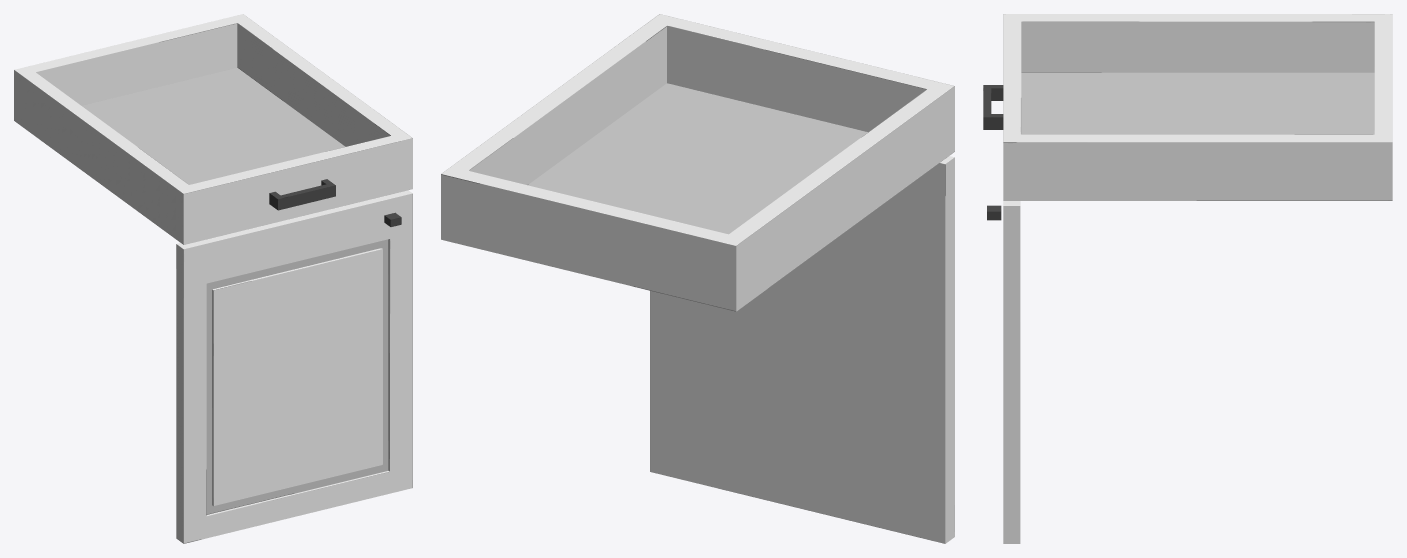
The model's file is PortinhaEGaveta.fbx.
The picture shows the model from 3 angles, left to right: view 1: azimuth 30°, elevation 25°; view 2: azimuth 150°, elevation 25°; view 3: azimuth 270°, elevation 25°; orthographic projection. The views are drawn at different scales.
Visible parts, largest first — view 1: PortinhaArmario, GavetaArmario; view 2: GavetaArmario, PortinhaArmario; view 3: GavetaArmario, PortinhaArmario.
Boxes of the visible parts, left/top/right/bottom form: PortinhaArmario: left=176, top=190, right=412, bottom=543; GavetaArmario: left=14, top=14, right=412, bottom=244; GavetaArmario: left=441, top=14, right=954, bottom=311; PortinhaArmario: left=650, top=156, right=954, bottom=543; GavetaArmario: left=983, top=14, right=1392, bottom=200; PortinhaArmario: left=987, top=201, right=1020, bottom=543.
Bounding box in the file's own units: 169 × 246 × 227.
